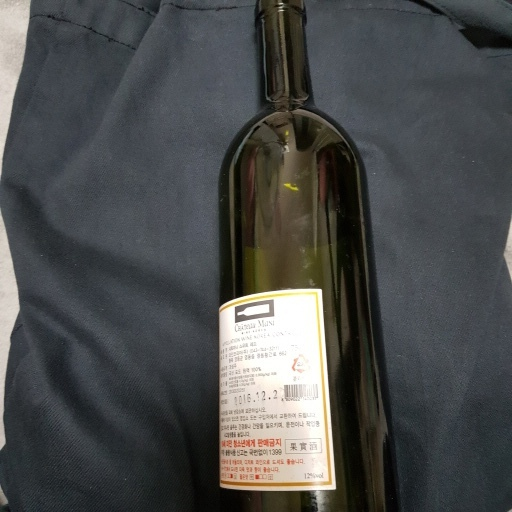Glass_2: (213, 1, 402, 512)
